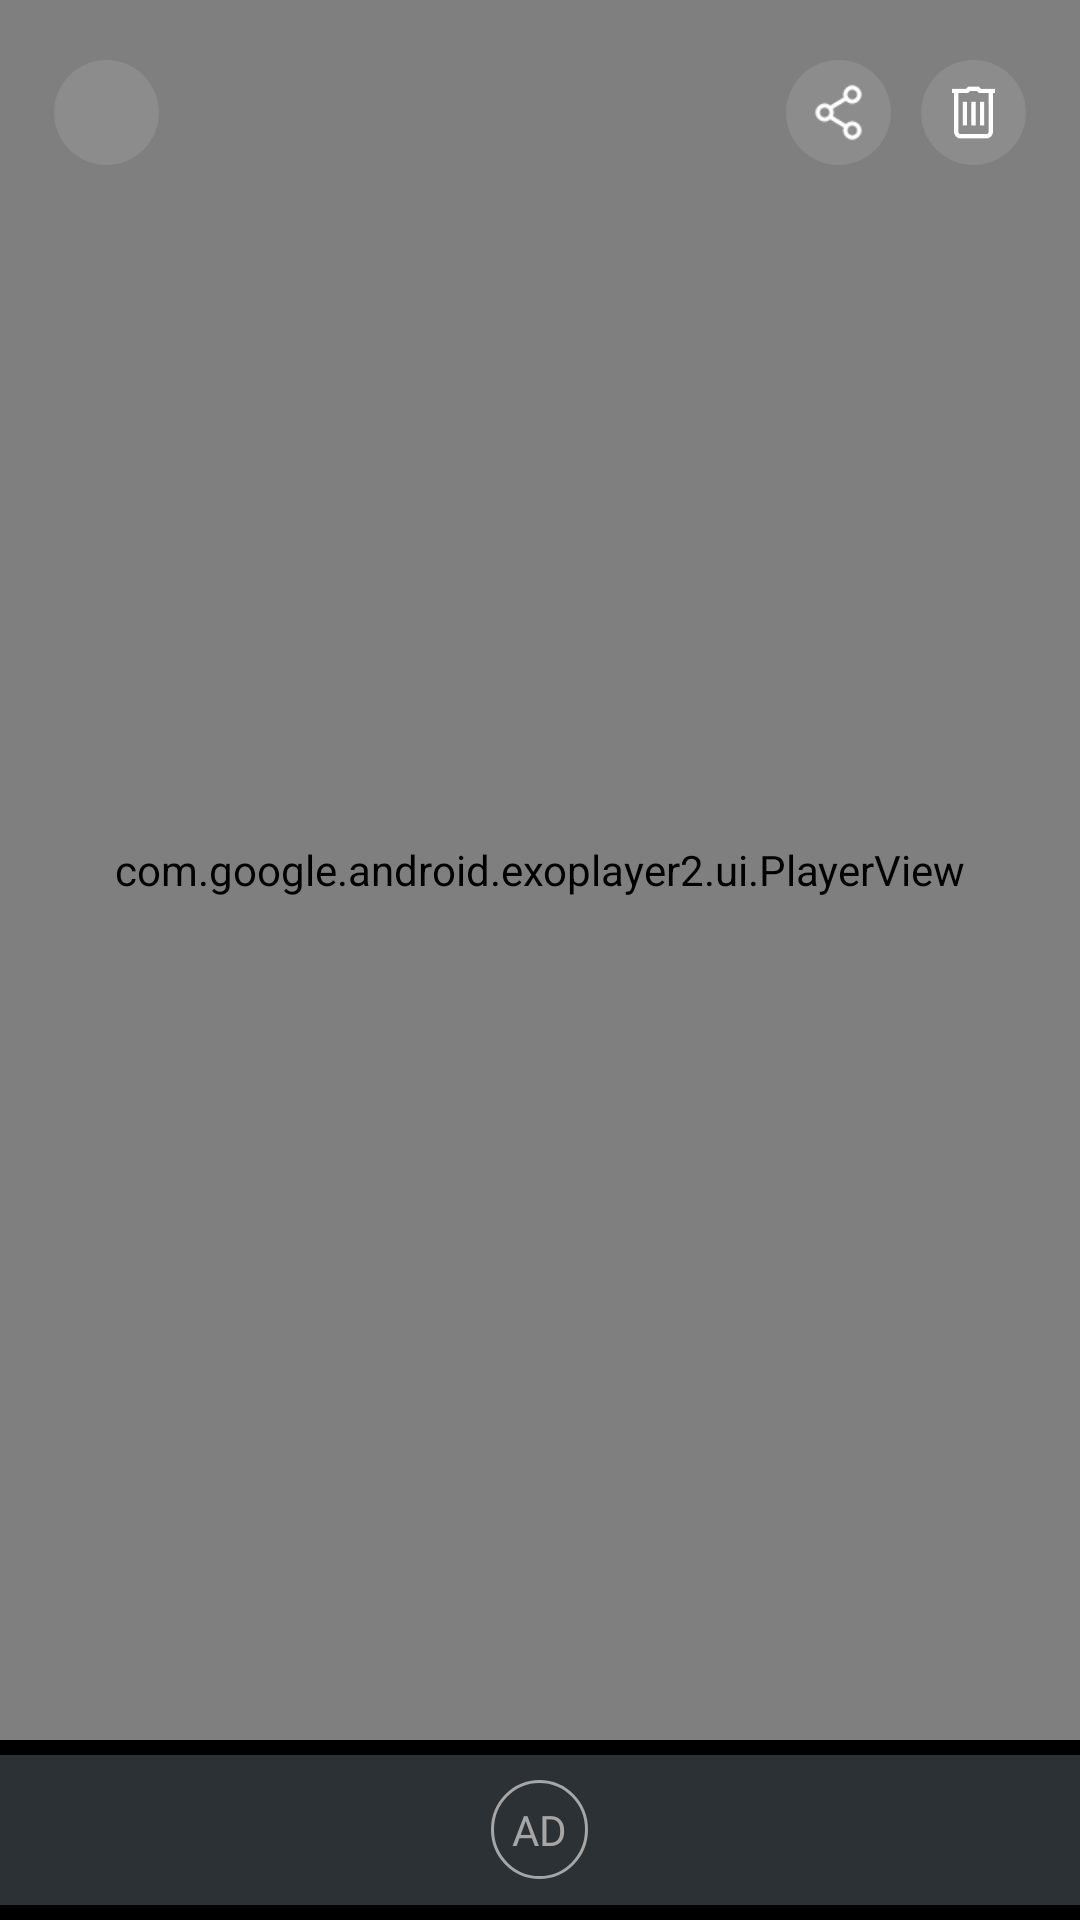

Point at icon controls on the screen. Image size 1080 × 1920, points as point (x, y).
delete: point (973, 112)
share: point (838, 112)
